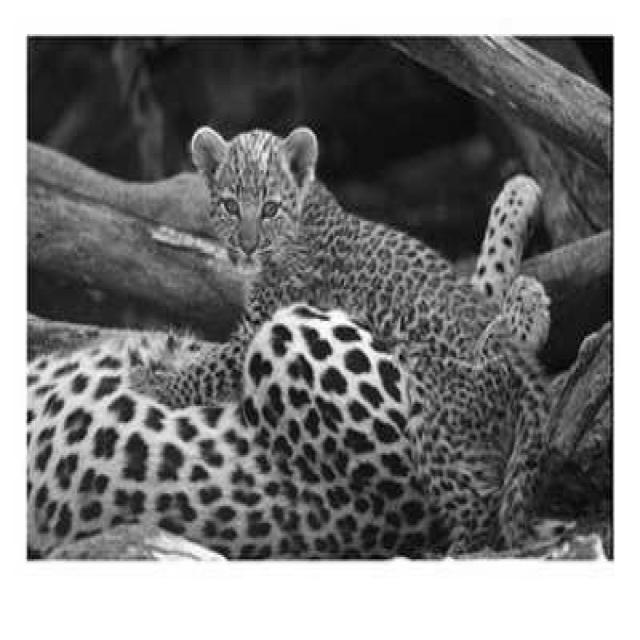Leopard: (27, 121, 605, 562)
